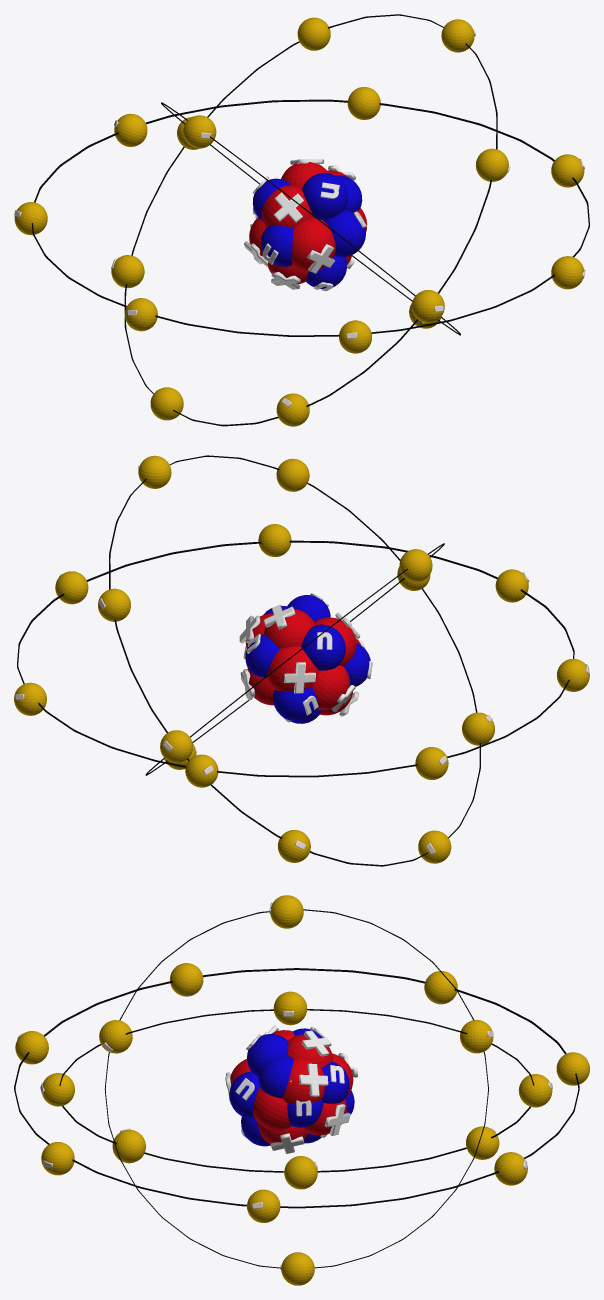
The picture shows the model from 3 angles, top to bottom: view 1: azimuth 30°, elevation 25°; view 2: azimuth 150°, elevation 25°; view 3: azimuth 270°, elevation 25°; orthographic projection.
Visible parts, largest first — view 1: Circle.002, Circle.001, Sphere.025, Sphere.008, Sphere.012, Sphere.014, Sphere.018, Sphere.023, Sphere.026, Sphere.016, Sphere.033, Sphere.013 (+15 smaller); view 2: Circle.002, Circle.001, Sphere.015, Sphere.005, Sphere.011, Sphere.007, Sphere.022, Sphere.013, Sphere.026, Sphere.003, Sphere.031, Sphere.037 (+17 smaller); view 3: Circle.002, Circle.001, Circle, Sphere, Sphere.024, Sphere.008, Sphere.030, Sphere.016, Sphere.003, Sphere.036, Sphere.002, Sphere.034 (+19 smaller).
Part boxes in pixels (box(x1,y1,x2,y2)): Circle.002: box(31, 99, 589, 336); Circle.001: box(124, 14, 497, 426); Sphere.025: box(292, 217, 335, 271); Sphere.008: box(302, 173, 348, 220); Sphere.012: box(322, 210, 365, 257); Sphere.014: box(261, 185, 314, 227); Sphere.018: box(261, 226, 293, 266); Sphere.023: box(297, 17, 330, 50); Sphere.026: box(441, 19, 474, 52); Sphere.016: box(150, 387, 183, 420); Sphere.033: box(347, 87, 380, 119); Sphere.013: box(475, 148, 508, 181); Circle.002: box(17, 540, 574, 777); Circle.001: box(109, 455, 480, 866); Sphere.015: box(301, 624, 345, 670); Sphere.005: box(267, 646, 318, 691); Sphere.011: box(312, 665, 349, 709); Sphere.007: box(264, 608, 314, 648); Sphere.022: box(273, 687, 318, 721); Sphere.013: box(276, 458, 309, 491); Sphere.026: box(138, 455, 171, 488); Sphere.003: box(399, 549, 432, 582); Sphere.031: box(258, 524, 291, 556); Sphere.037: box(55, 571, 88, 604); Circle.002: box(14, 968, 579, 1208); Circle.001: box(59, 1009, 534, 1172); Circle: box(104, 909, 488, 1268); Sphere: box(253, 1087, 291, 1130); Sphere.024: box(258, 1055, 293, 1098); Sphere.008: box(247, 1034, 288, 1076); Sphere.030: box(282, 1058, 324, 1104); Sphere.016: box(284, 1156, 317, 1189); Sphere.003: box(270, 895, 303, 928); Sphere.036: box(170, 963, 203, 996); Sphere.002: box(281, 1252, 314, 1285); Sphere.034: box(556, 1052, 589, 1085).
Size of the model in its own units: 87.04 by 55.5 by 86.35.
